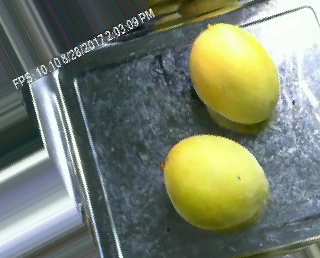Mango: (163, 135, 270, 228), (189, 22, 280, 124)
